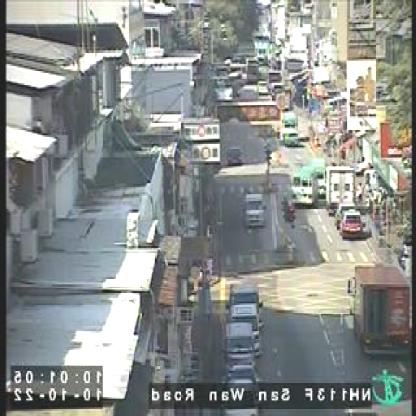Car: (221, 322, 257, 368), (229, 302, 259, 353), (338, 207, 366, 241), (283, 130, 301, 147)
Minibus: (290, 168, 319, 206), (308, 157, 326, 193), (280, 112, 299, 140)
Truck: (350, 264, 414, 356), (324, 164, 355, 214), (244, 187, 264, 228)
